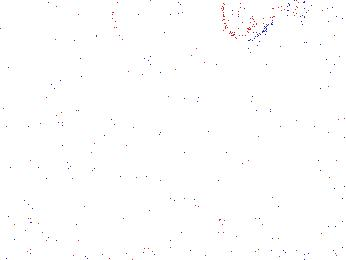moon jellyfish: (108, 1, 185, 74), (149, 48, 234, 108), (291, 1, 346, 62), (221, 1, 291, 42), (29, 1, 114, 27)
